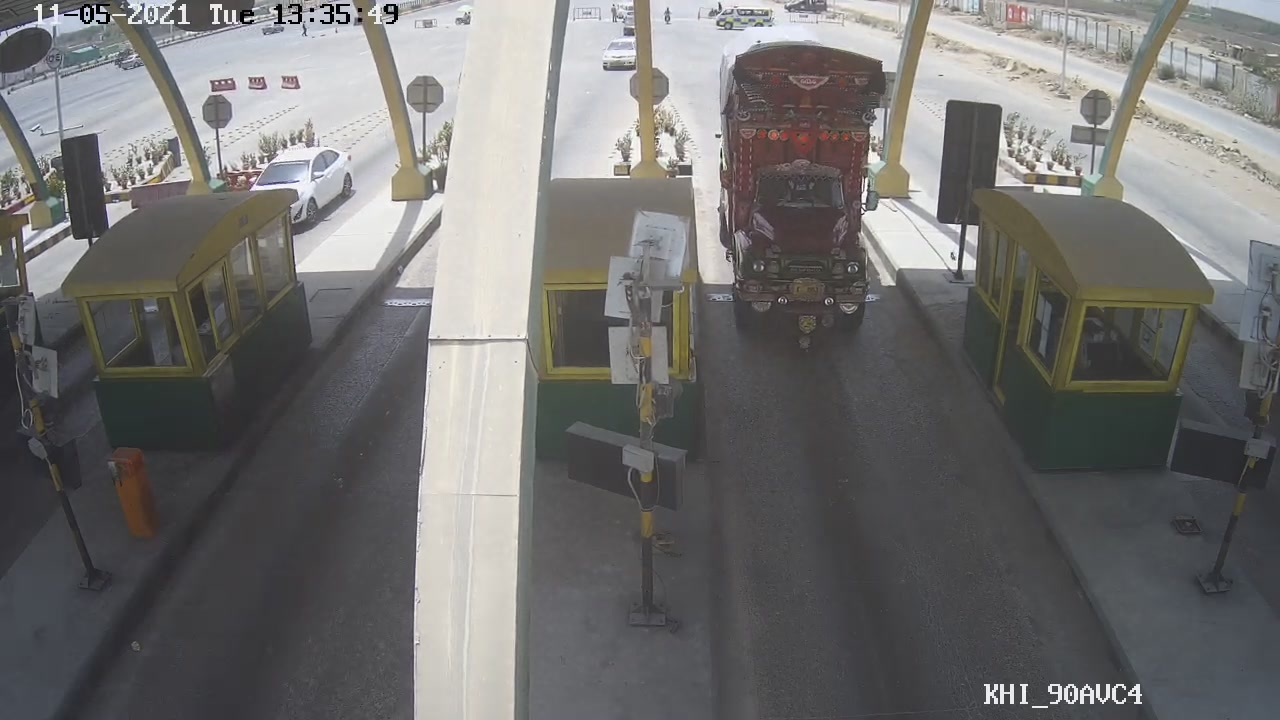F5: (707, 38, 893, 360)
